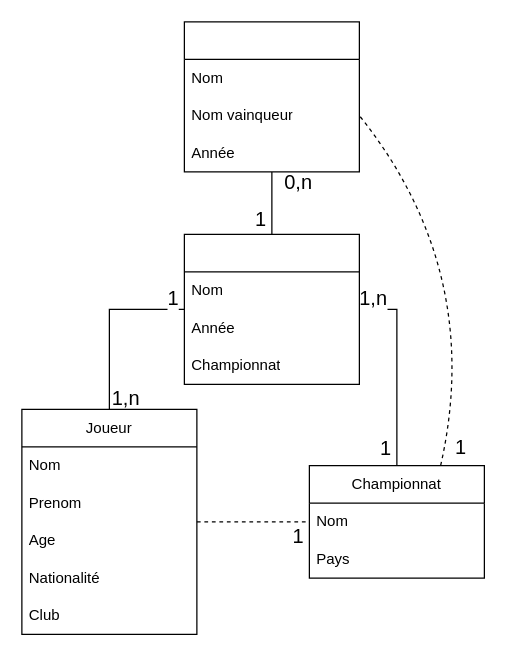
This 506x656 diagram has some shape labels left out. Each missing label, with the box of its shape:
Clubs: (183, 233, 359, 384)
Trophée: (183, 21, 359, 172)
